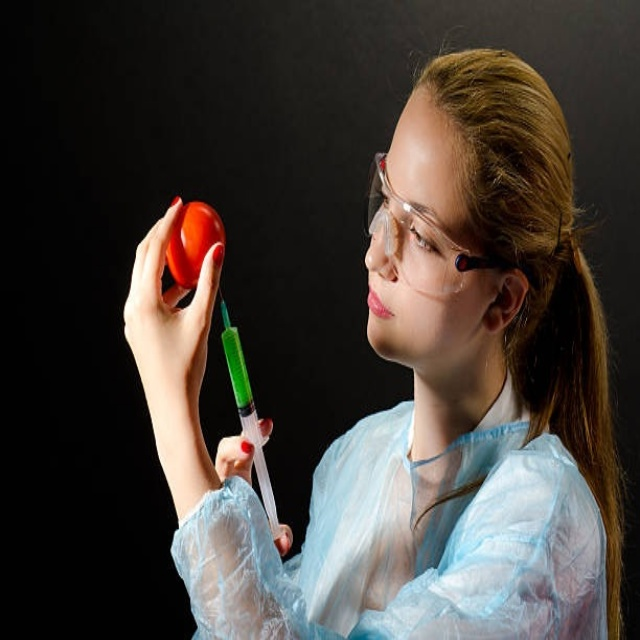Gafas: (369, 155, 521, 297)
Sin_guantes: (122, 193, 227, 403)
Sin_mascara: (363, 267, 411, 349)
